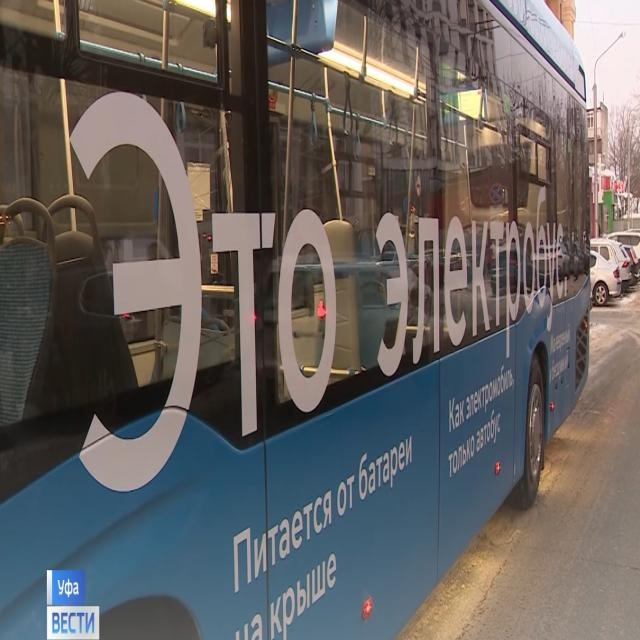Bus: (0, 0, 598, 639)
